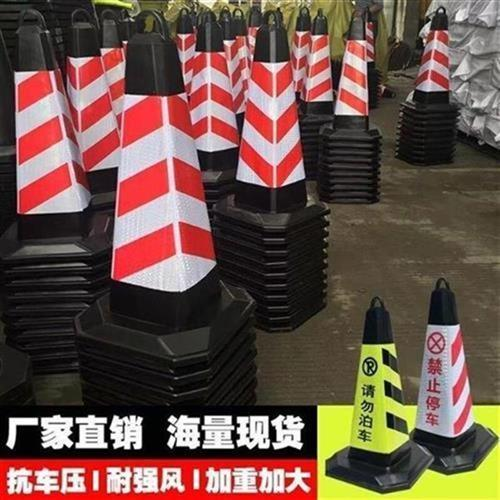cone_barrel: (95, 19, 232, 344), (3, 12, 99, 239), (222, 21, 316, 222), (332, 298, 415, 473), (402, 280, 482, 447), (63, 12, 120, 202), (187, 13, 239, 175), (327, 13, 374, 135), (404, 10, 459, 104), (299, 7, 335, 116)
